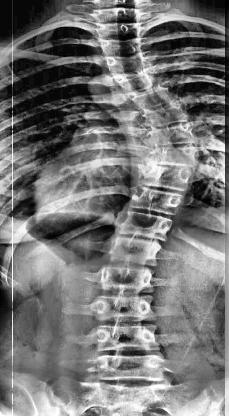Vertebrae: (92, 354, 168, 382), (90, 326, 161, 352), (96, 266, 156, 292), (111, 214, 179, 236), (94, 296, 156, 320), (102, 238, 164, 262), (132, 164, 198, 186), (140, 125, 208, 144), (126, 190, 188, 210), (140, 145, 205, 163), (140, 103, 190, 122), (127, 86, 177, 104), (111, 70, 159, 88), (94, 37, 146, 53), (103, 53, 153, 69), (97, 21, 147, 35)
